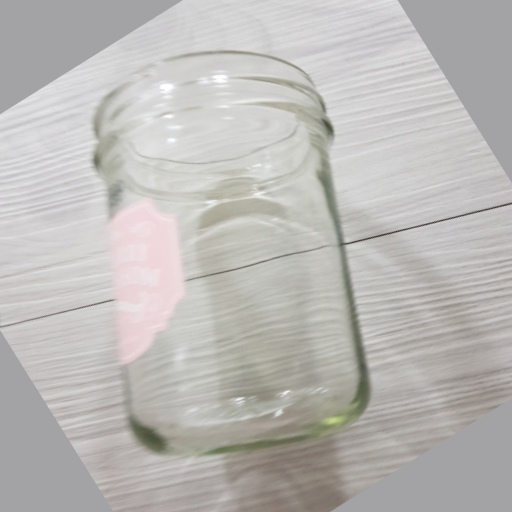Glass_5: (94, 54, 382, 459)
